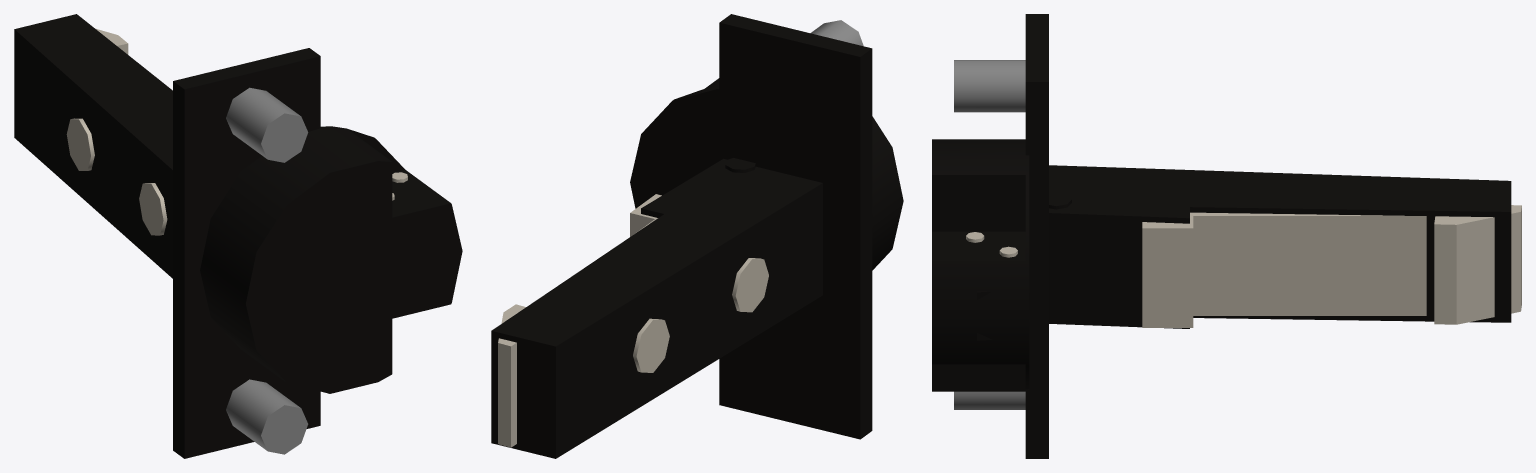
3 renders of one model, left to right at view 1: azimuth 30°, elevation 25°; view 2: azimuth 150°, elevation 25°; view 3: azimuth 270°, elevation 25°, orthographic. The views are drawn at different scales.
Visible parts, largest first — view 1: bau0015089612-1, bau0015088251-1; view 2: bau0015089612-1, bau0015088251-1, bau0019416036-1; view 3: bau0015089612-1, bau0019416036-1, bau0015088251-1.
Boxes of the visible parts, x1,y1,x2,y2 form: bau0015089612-1: [173, 48, 462, 458]; bau0015088251-1: [14, 14, 172, 278]; bau0015089612-1: [630, 14, 903, 439]; bau0015088251-1: [491, 158, 822, 458]; bau0019416036-1: [498, 194, 661, 447]; bau0015089612-1: [932, 14, 1048, 458]; bau0019416036-1: [1142, 205, 1521, 327]; bau0015088251-1: [1049, 165, 1511, 328].
Bounding box in the file's own units: 37.5 × 57 × 80.78.
